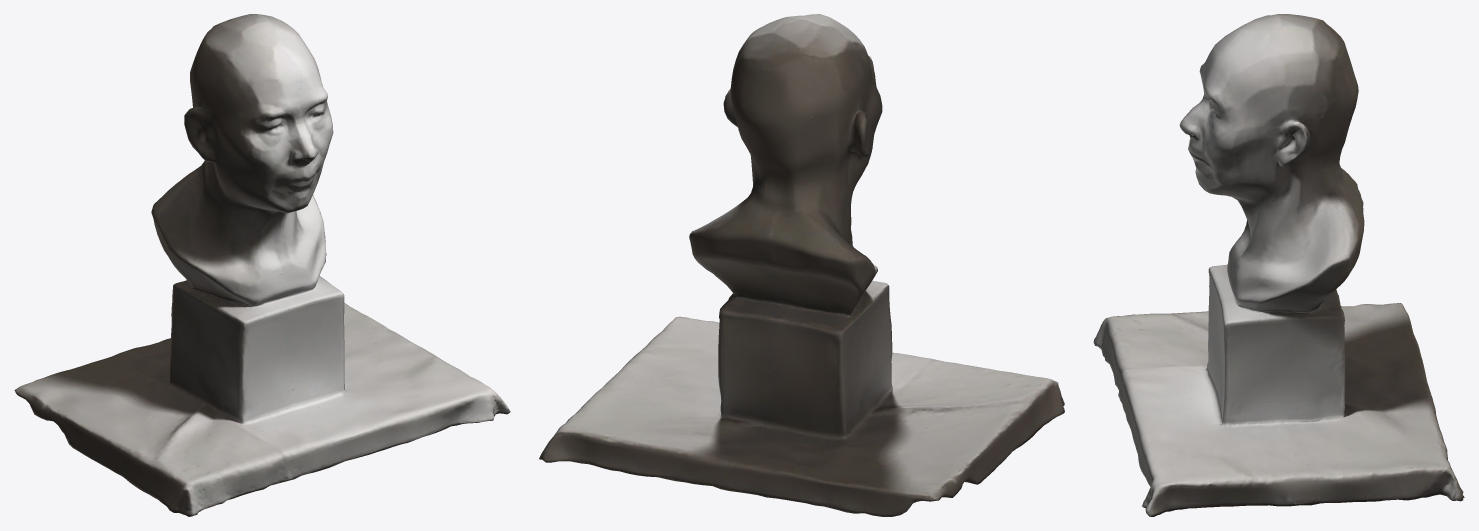
The model's file is 石膏头像_男老年_分模胸像01_opt.glb.
3 renders of one model, left to right at view 1: azimuth 30°, elevation 25°; view 2: azimuth 150°, elevation 25°; view 3: azimuth 270°, elevation 25°, orthographic. The views are drawn at different scales.
Parts seen in each view (by area): view 1: surfaceShader11SG, surfaceShader11SG_1; view 2: surfaceShader11SG, surfaceShader11SG_1; view 3: surfaceShader11SG, surfaceShader11SG_1.
Part boxes in pixels (x1,y1,x2,y2): surfaceShader11SG: [14, 14, 510, 516]; surfaceShader11SG_1: [16, 16, 508, 516]; surfaceShader11SG: [539, 14, 1064, 516]; surfaceShader11SG_1: [545, 28, 1064, 515]; surfaceShader11SG: [1093, 14, 1464, 516]; surfaceShader11SG_1: [1095, 14, 1454, 516].
Size of the model in its own units: 0.3017 by 0.3 by 0.2505.
1 material, 1 textured.
